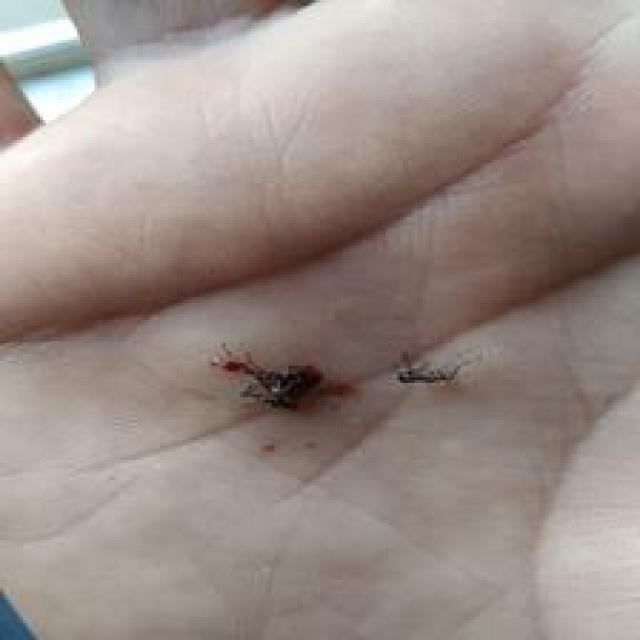Aedes albopictus: (394, 350, 463, 387)
